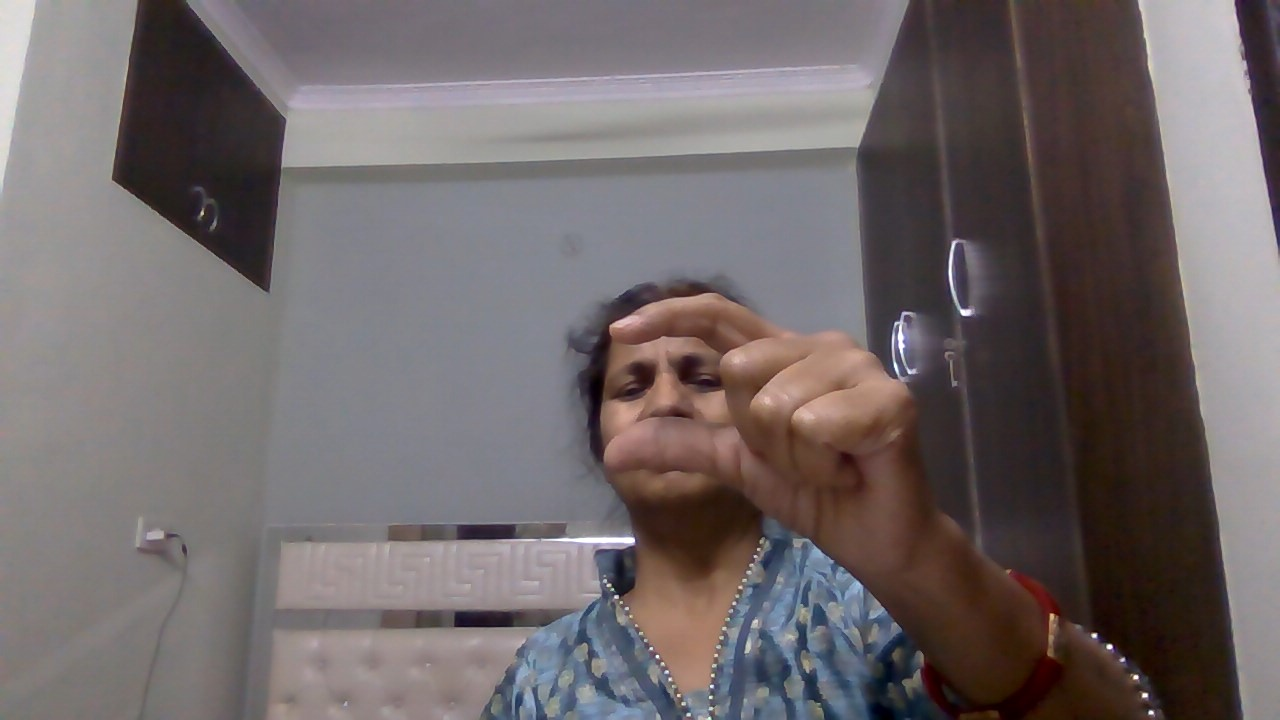Paste: (583, 286, 951, 589)
